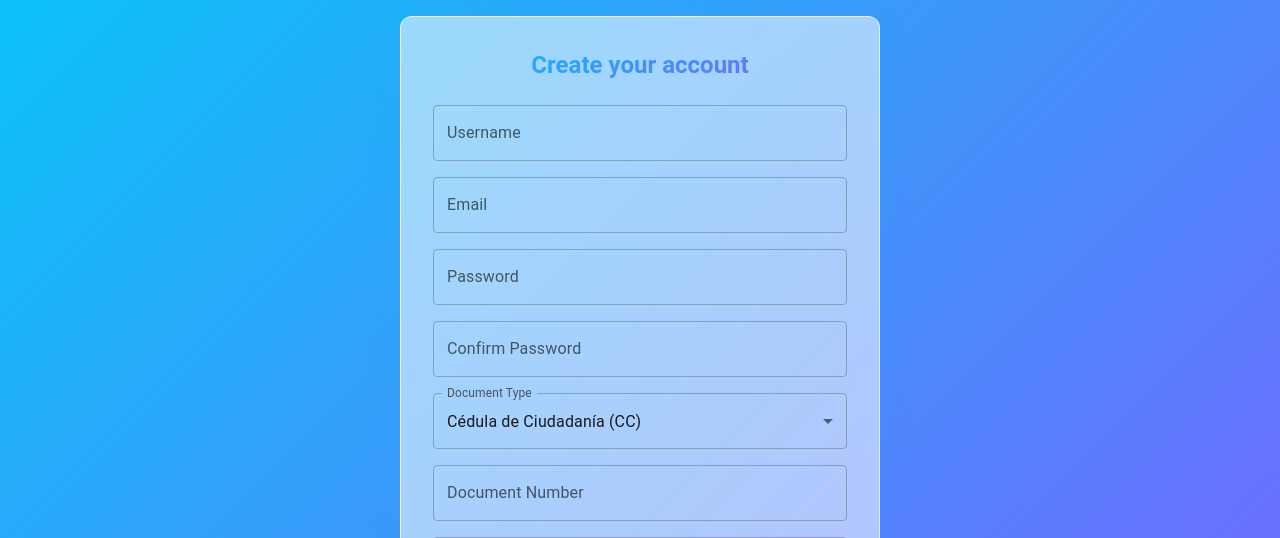
Test case: Register › shows validation error for invalid email on blur
The width and height of the screenshot is (1280, 538).
Type "not-an-email" into the field with test id "register-email" at (640, 205), box [433,177,847,233]
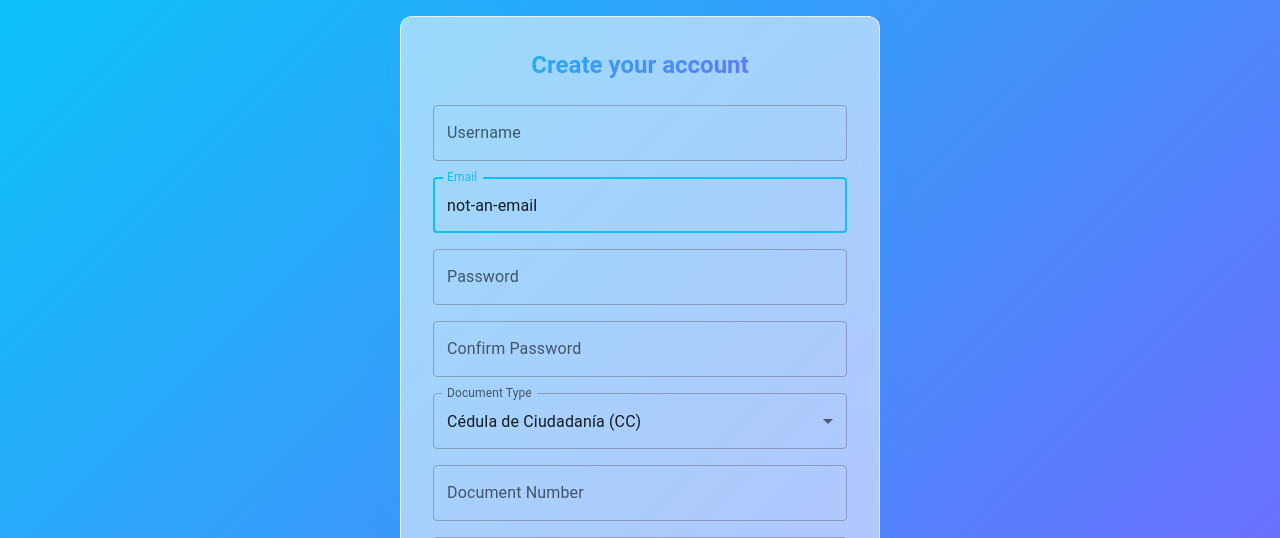
Press Tab
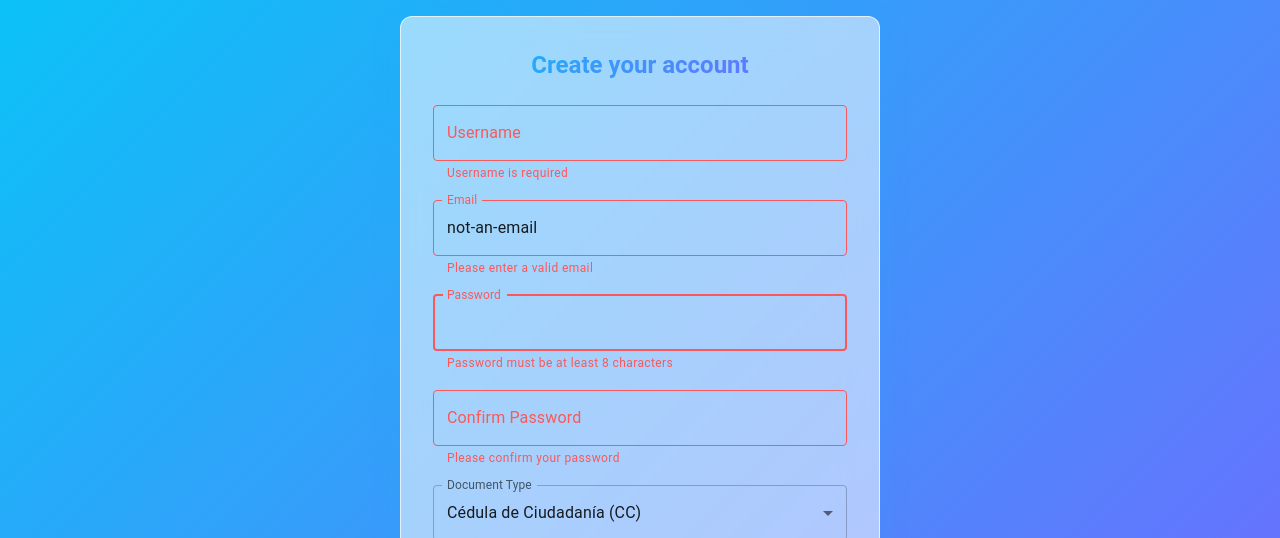
Now the text with test id "register-email-error" reads "Please enter a valid email", box [447,261,593,275]
